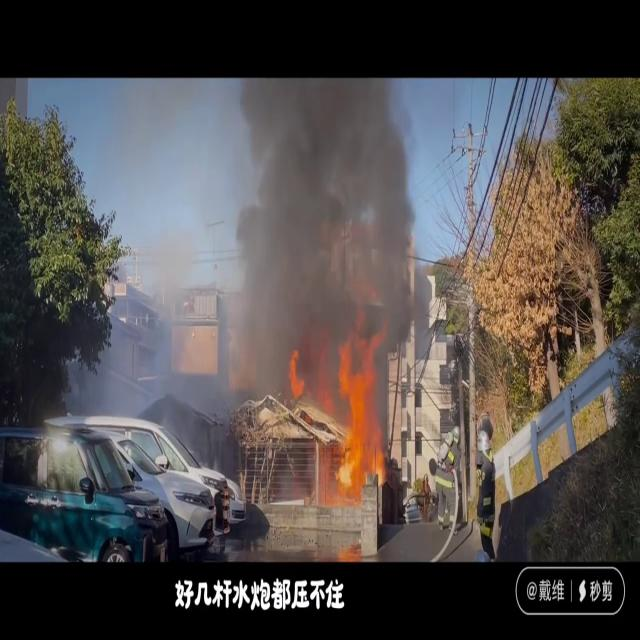Fire: (334, 378, 388, 508)
Smoke: (214, 79, 432, 411)
